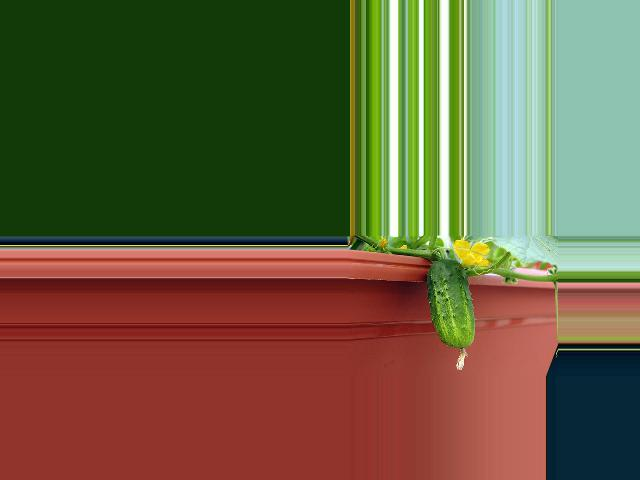cucumber: (427, 258, 475, 371)
